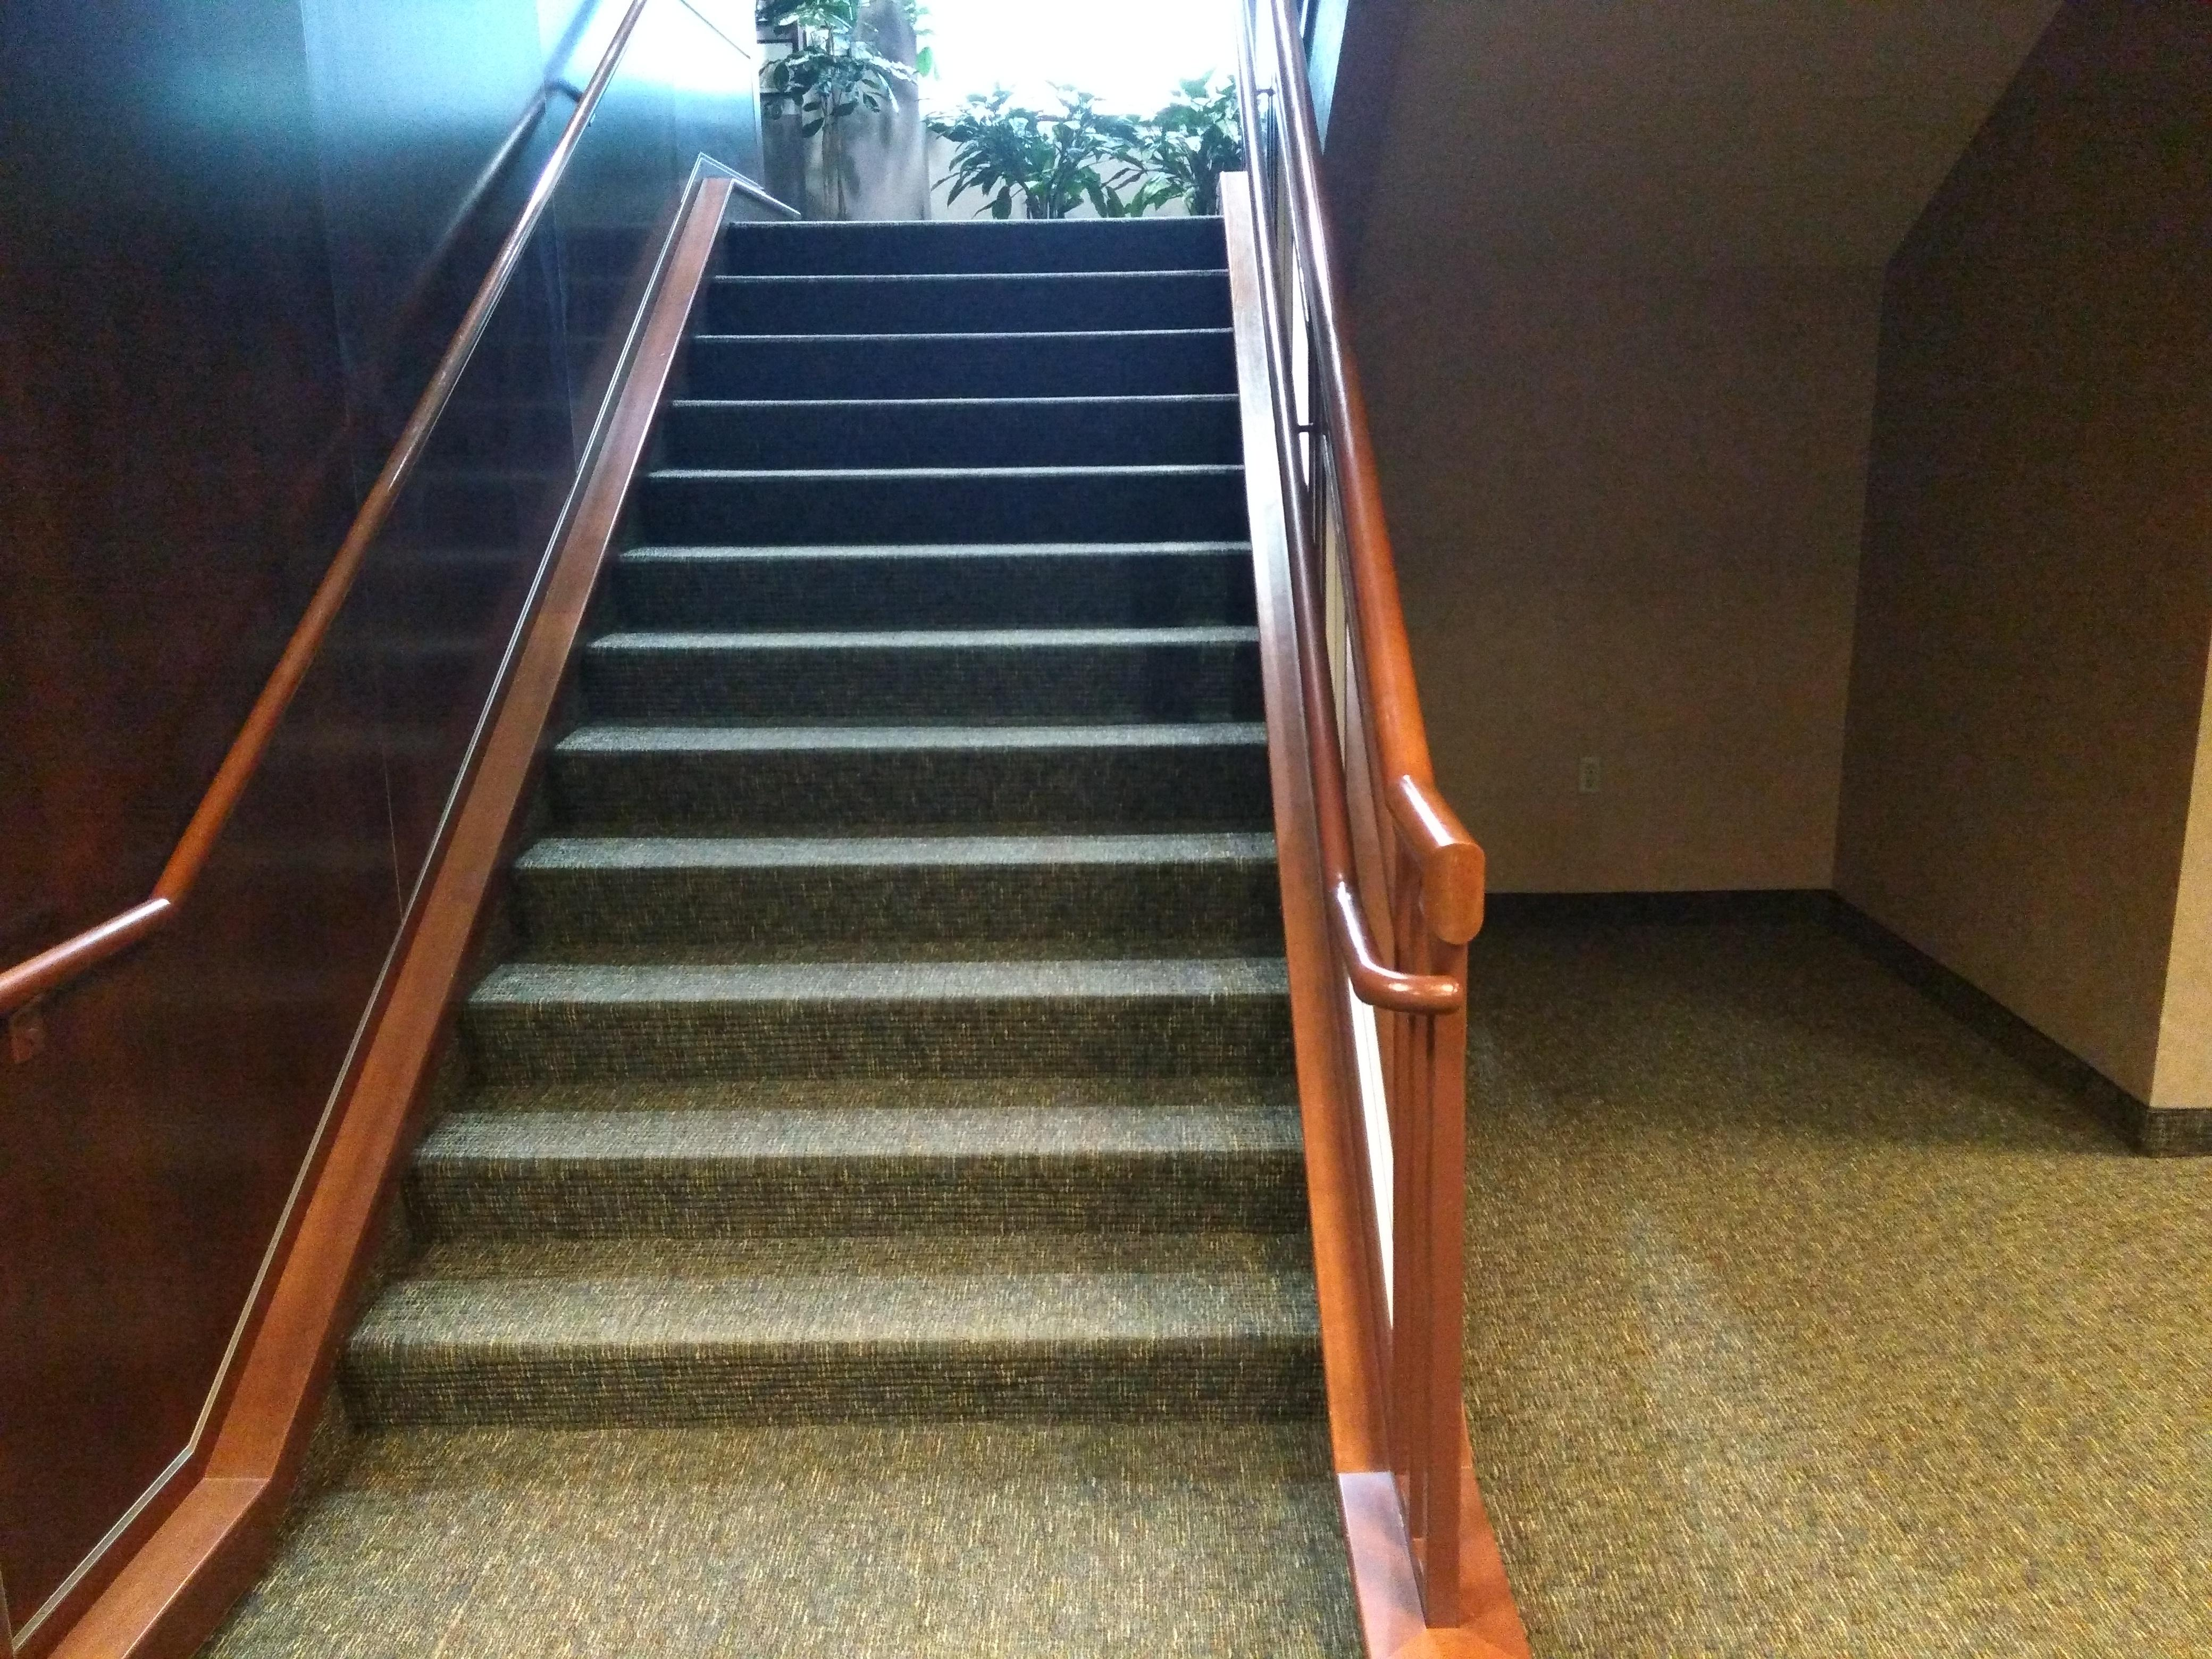stairs_up: (348, 146, 1317, 1542)
